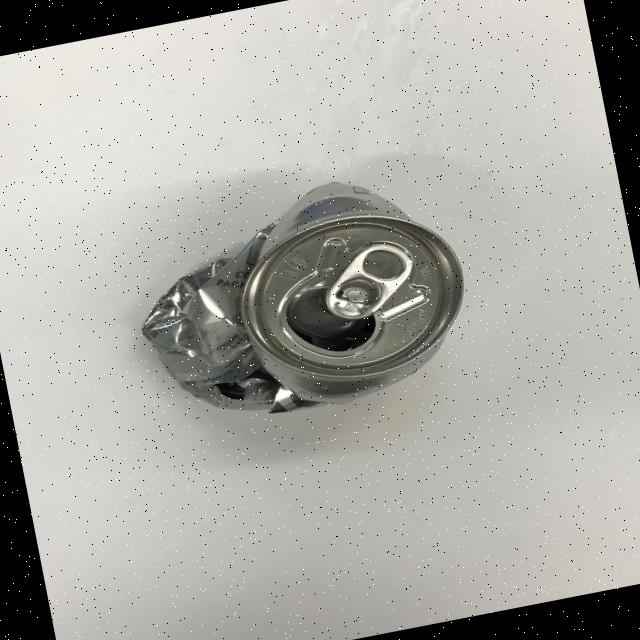metal: (120, 160, 484, 440)
